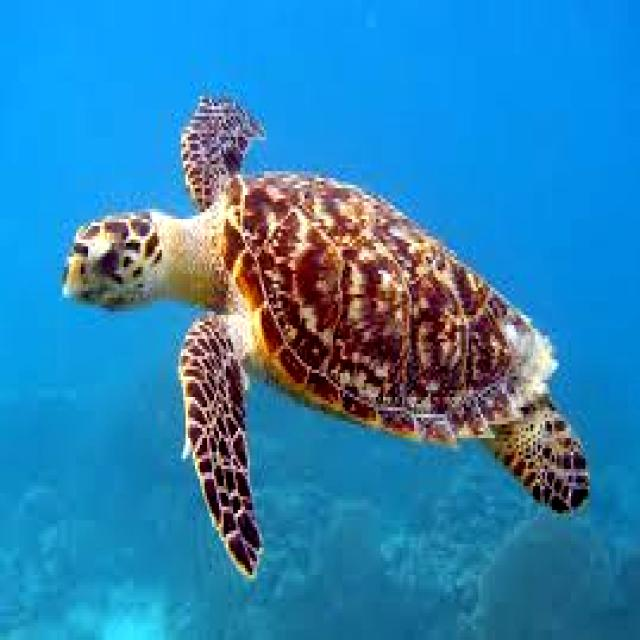Sea turtle: (58, 86, 602, 592)
